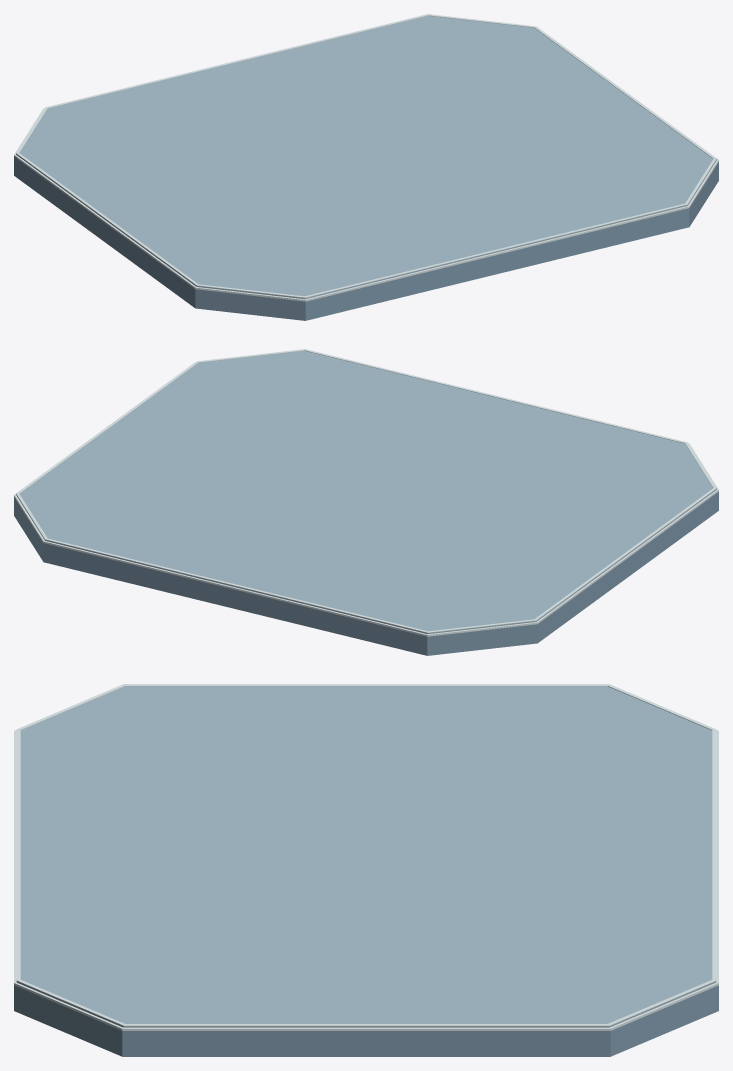
The model's file is campus_platform_v01.glb.
The picture shows the model from 3 angles, top to bottom: view 1: azimuth 30°, elevation 25°; view 2: azimuth 150°, elevation 25°; view 3: azimuth 270°, elevation 25°; orthographic projection. The views are drawn at different scales.
Visible parts, largest first — view 1: campus_platform; view 2: campus_platform; view 3: campus_platform.
Boxes of the visible parts, x1,y1,x2,y2 form: campus_platform: (14,14,718,320); campus_platform: (14,349,718,655); campus_platform: (14,684,718,1056).
Size of the model in its own units: 30 by 1.23 by 26.
Materials: 1 (1 with a texture image).
